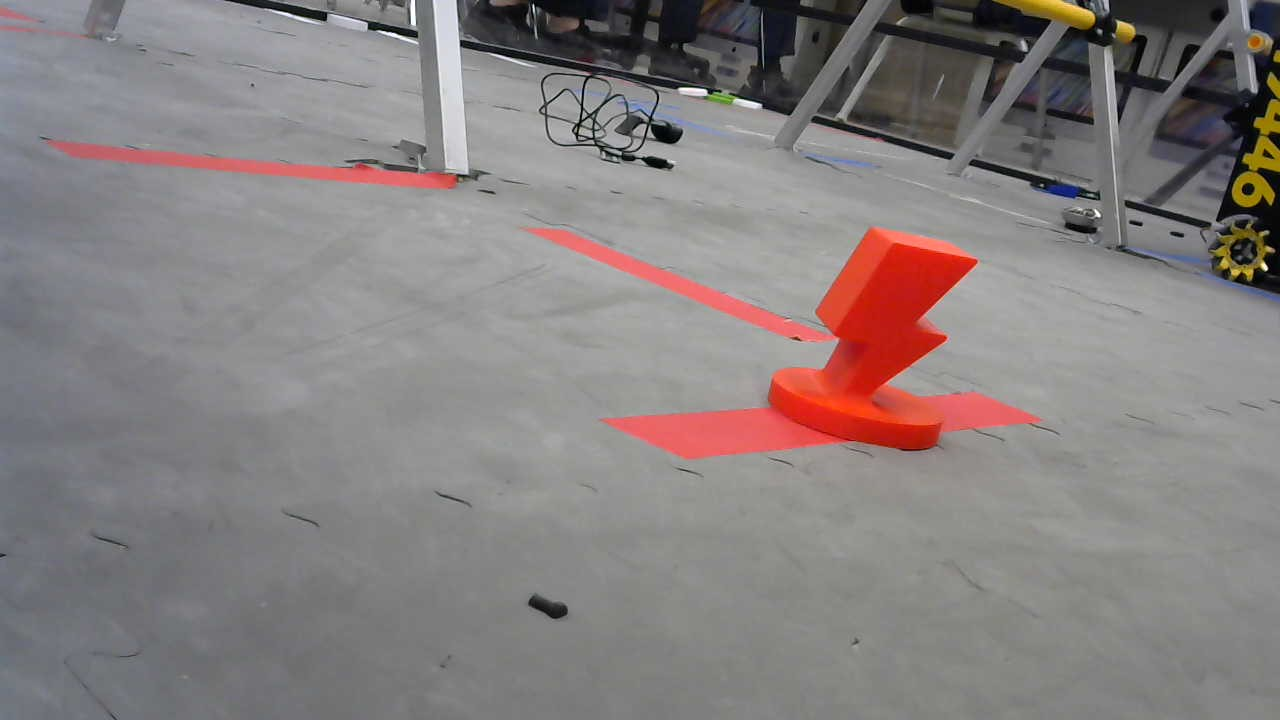redobject: (765, 224, 982, 457)
